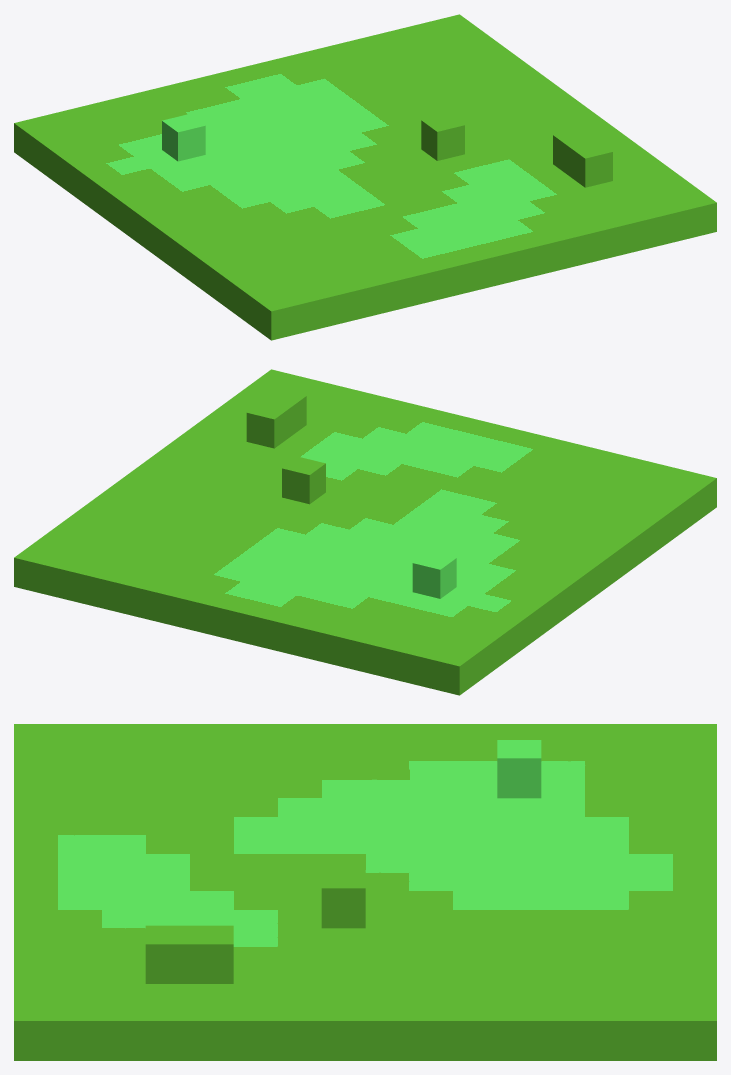
The model's file is env_grass2b.fbx.
The picture shows the model from 3 angles, top to bottom: view 1: azimuth 30°, elevation 25°; view 2: azimuth 150°, elevation 25°; view 3: azimuth 270°, elevation 25°; orthographic projection. The views are drawn at different scales.
Visible parts, largest first — view 1: env_grass2b; view 2: env_grass2b; view 3: env_grass2b.
Part boxes in pixels (x1,y1,x2,y2): env_grass2b: (14, 14, 716, 340); env_grass2b: (14, 369, 716, 695); env_grass2b: (14, 724, 716, 1060).
Size of the model in its own units: 1.6 by 1.6 by 0.2.
Materials: 1 (1 with a texture image).
